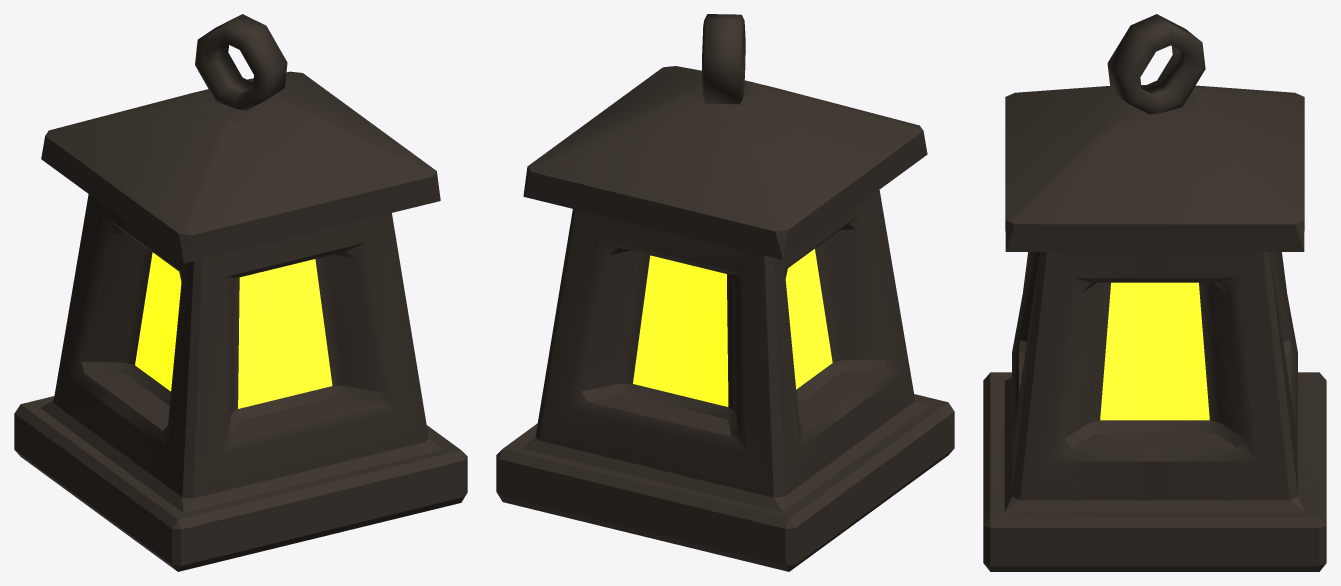
The model's file is Farol.glb.
The picture shows the model from 3 angles, left to right: view 1: azimuth 30°, elevation 25°; view 2: azimuth 150°, elevation 25°; view 3: azimuth 270°, elevation 25°; orthographic projection. The views are drawn at different scales.
Parts seen in each view (by area): view 1: Cubo.011, Cubo.012; view 2: Cubo.011, Cubo.012; view 3: Cubo.011, Cubo.012.
Part boxes in pixels (x1,y1,x2,y2): Cubo.011: [14, 71, 467, 571]; Cubo.012: [195, 14, 287, 110]; Cubo.011: [496, 66, 954, 571]; Cubo.012: [702, 14, 745, 104]; Cubo.011: [983, 85, 1326, 571]; Cubo.012: [1107, 14, 1205, 114].
Size of the model in its own units: 0.8648 by 1.28 by 0.8319.
